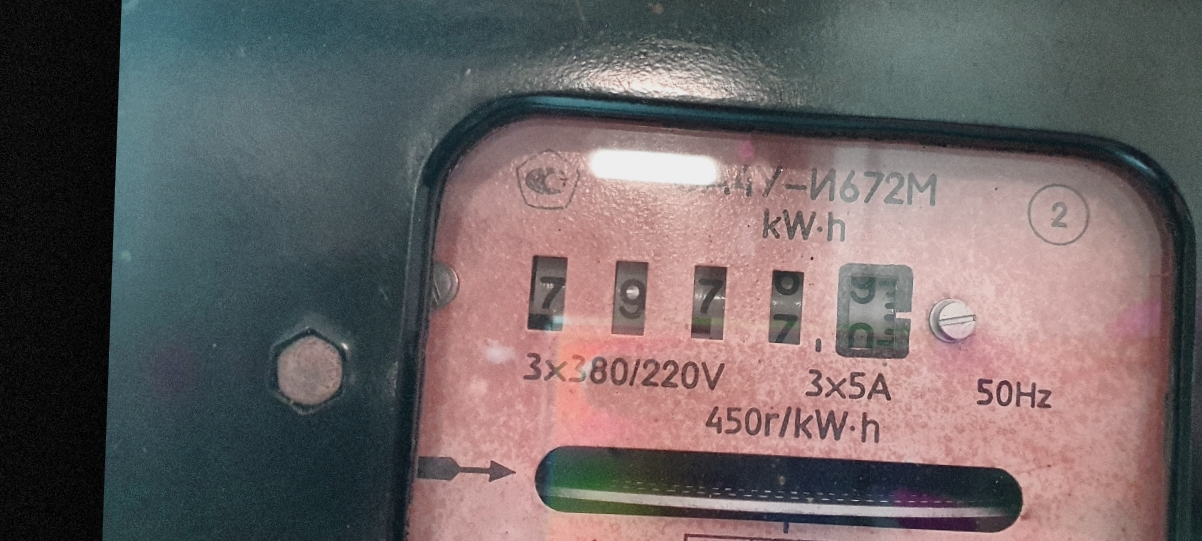0: (844, 316, 878, 355)
7: (693, 274, 725, 318), (535, 271, 566, 315), (769, 310, 800, 346)
9: (614, 275, 649, 321), (847, 269, 879, 305)
screen: (506, 231, 939, 382)
